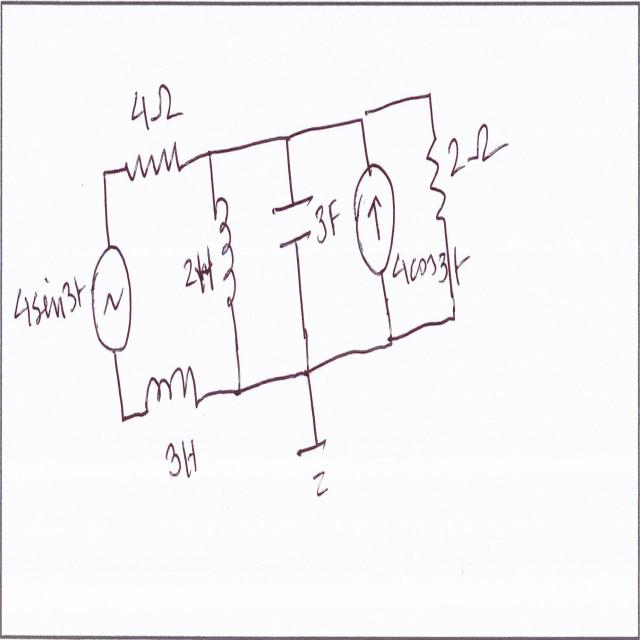capacitor: (270, 185, 314, 261)
current_source: (350, 157, 398, 276), (90, 235, 133, 358)
ground: (296, 423, 338, 518)
inductor: (142, 359, 200, 427), (214, 193, 242, 313)
resistor: (123, 138, 183, 189), (424, 126, 449, 232)
